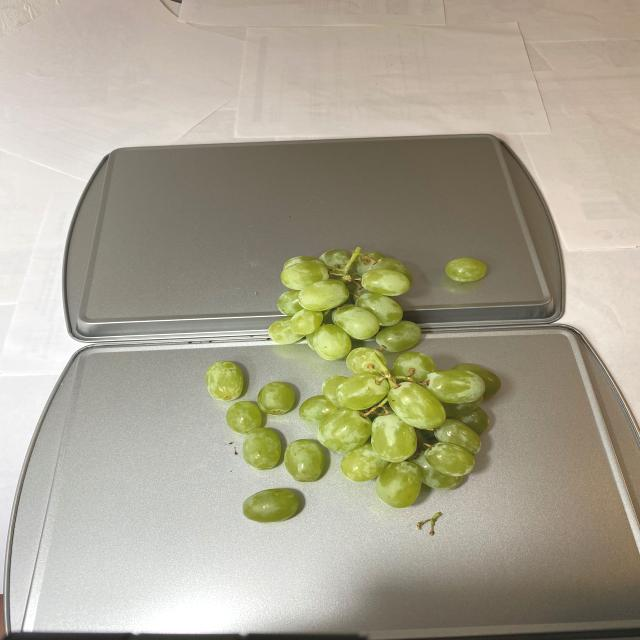grapes: (209, 250, 496, 526)
